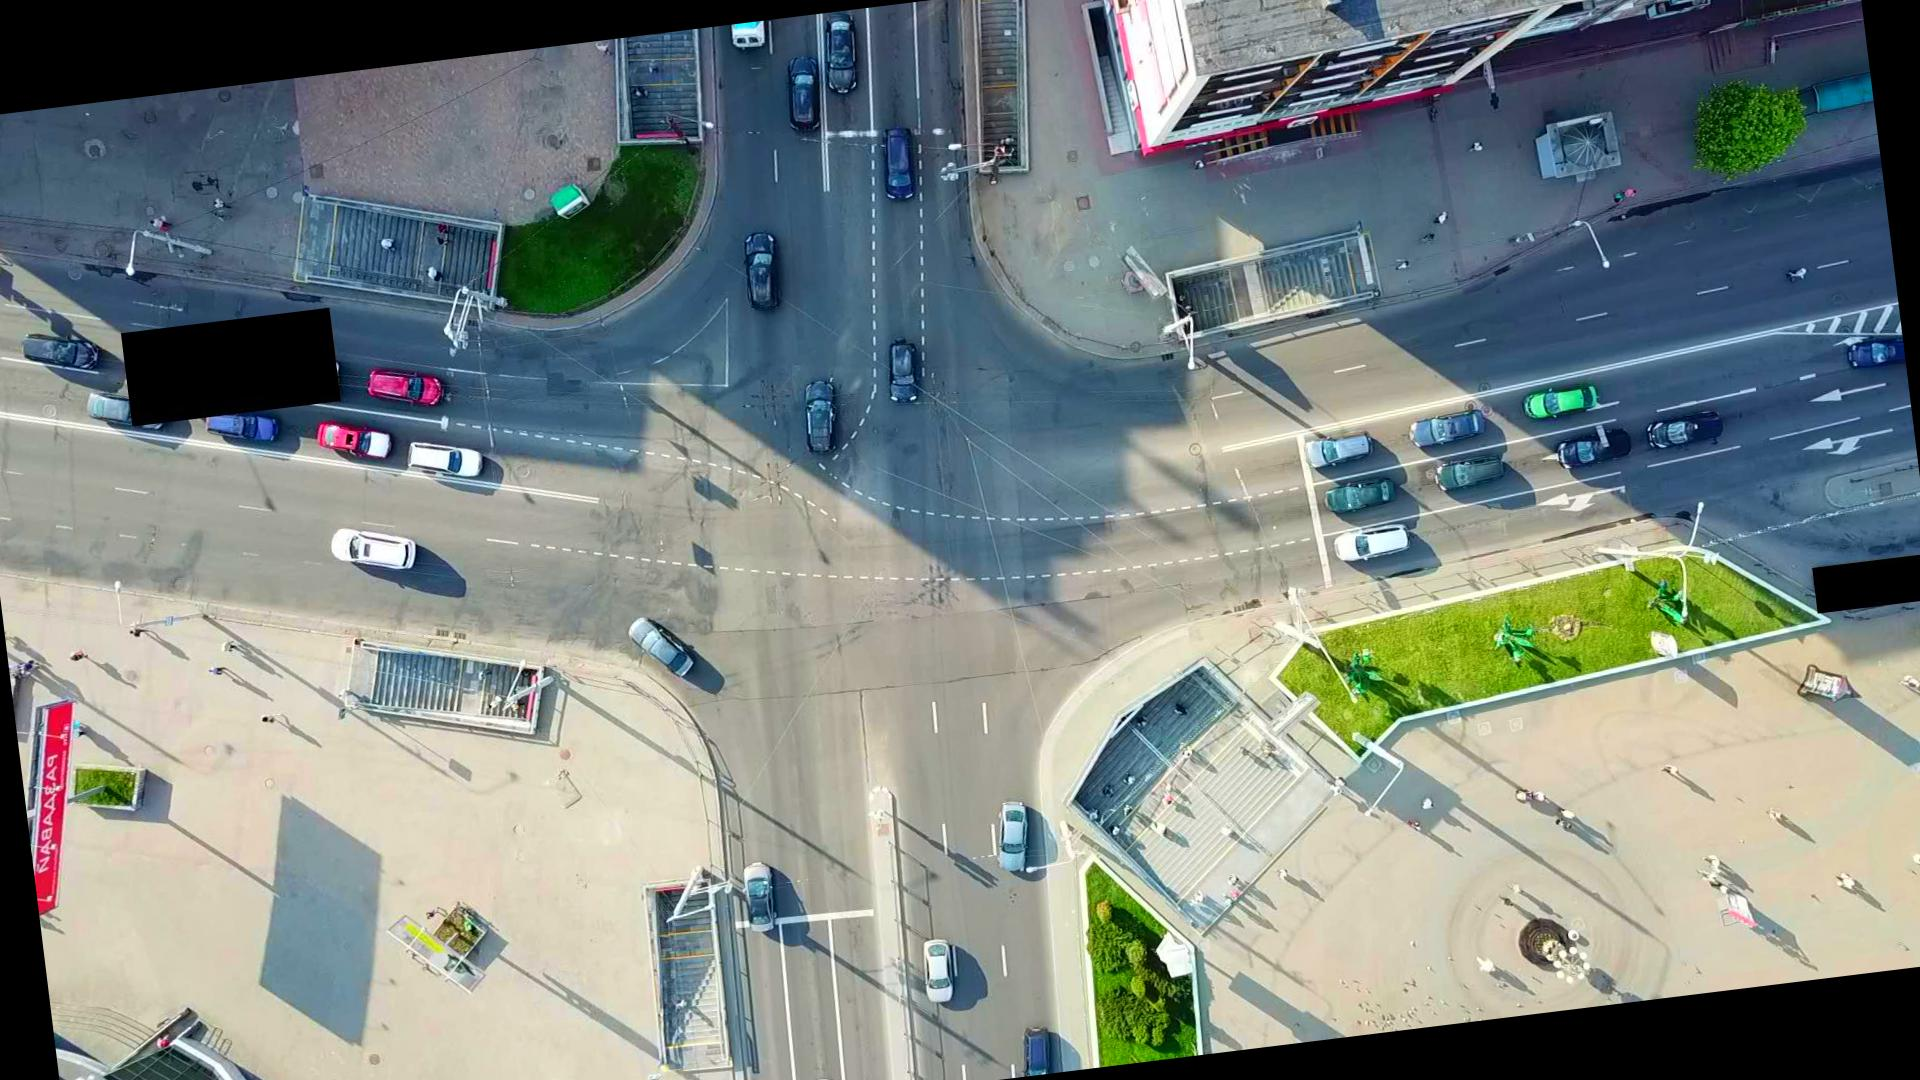vehicle: (328, 520, 417, 580), (625, 611, 698, 682), (83, 382, 169, 439), (313, 413, 394, 468), (365, 360, 444, 415), (405, 434, 485, 484), (20, 327, 99, 376), (1555, 425, 1635, 472), (738, 229, 783, 313), (1644, 406, 1725, 452), (798, 377, 845, 455), (818, 16, 862, 98), (782, 54, 825, 137), (877, 124, 920, 204), (989, 799, 1034, 876), (203, 404, 277, 448), (1332, 524, 1411, 563), (1407, 410, 1486, 450), (1432, 454, 1509, 495), (1524, 381, 1600, 421), (882, 338, 924, 406), (1303, 430, 1374, 469), (1321, 476, 1396, 513), (742, 861, 779, 934), (919, 938, 956, 1006)
